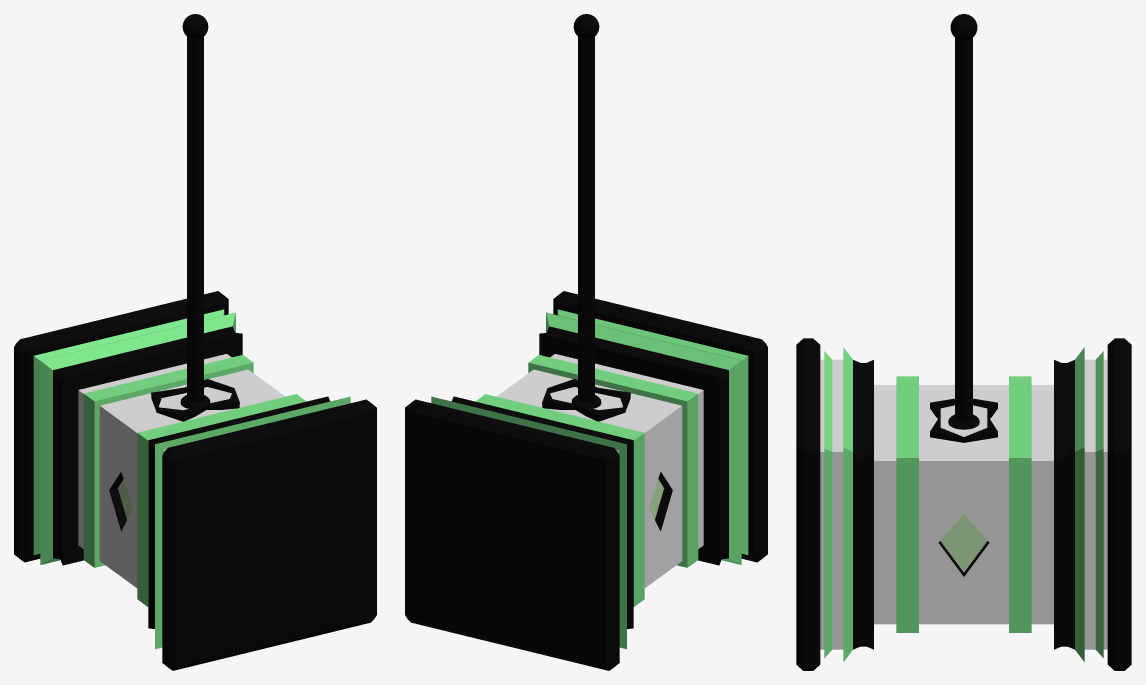
File: hammer3.fbx
3 renders of one model, left to right at view 1: azimuth 30°, elevation 25°; view 2: azimuth 150°, elevation 25°; view 3: azimuth 270°, elevation 25°, orthographic. The views are drawn at different scales.
Parts seen in each view (by area): view 1: Cube; view 2: Cube; view 3: Cube, Cube.002, Sphere.
Part boxes in pixels (left/top/right/bottom): Cube: left=14, top=37, right=376, bottom=670; Cube: left=405, top=37, right=767, bottom=670; Cube: left=796, top=38, right=1131, bottom=670; Cube.002: left=940, top=514, right=987, bottom=572; Sphere: left=950, top=14, right=977, bottom=40.
Bounding box in the file's own units: 283 × 741 × 372.
